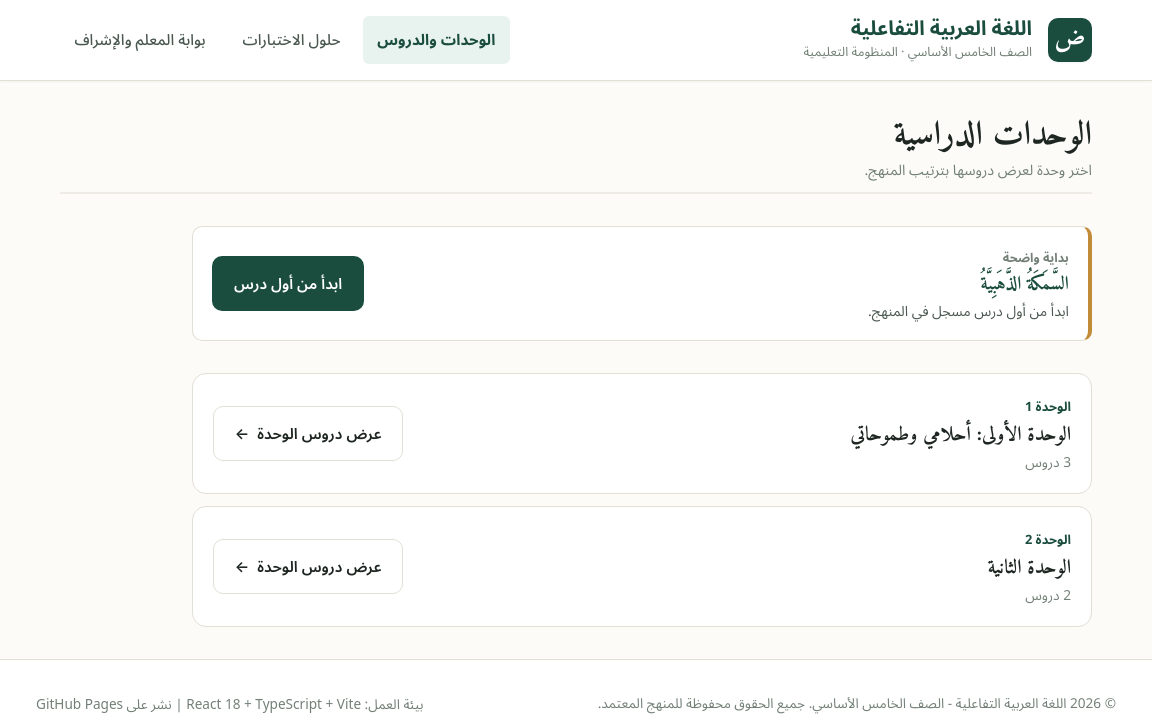
Test case: Unit 1 review — Student Area › shows the review and unit test in a separate section after the ordered lessons
The image size is (1152, 720).
Click the button with aria-label "عرض دروس الوحدة الأولى: أحلامي وطموحاتي": {"x": 308, "y": 434} 213,406 -> 403,461
(page scrolled)
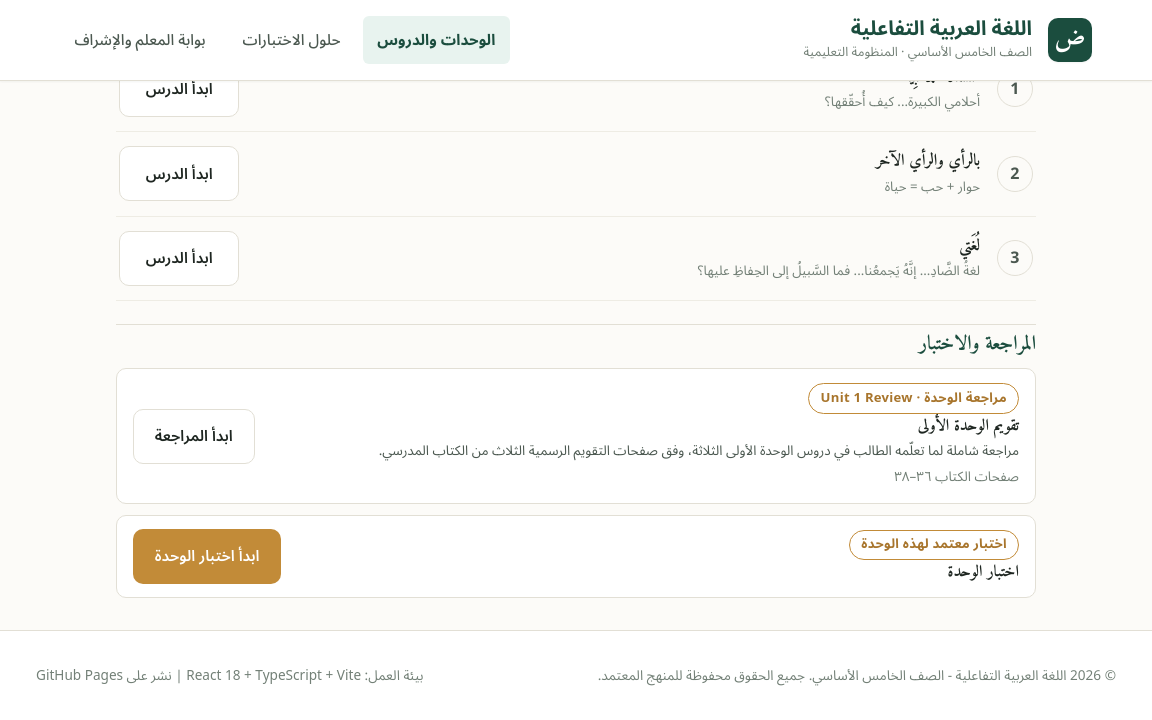
Check: the list with class "unit-page-lesson-list" is shown, box 116,48 -> 1036,301
Check: the element with class "unit-page-assessments" is shown, box 116,324 -> 1036,598
Check: the heading "تقويم الوحدة الأولى" is shown, box 918,412 -> 1019,440
